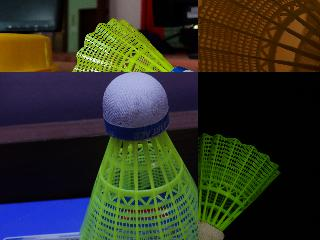shuttlecock: (77, 72, 197, 239), (198, 133, 281, 239), (198, 0, 319, 71), (73, 17, 197, 71)
